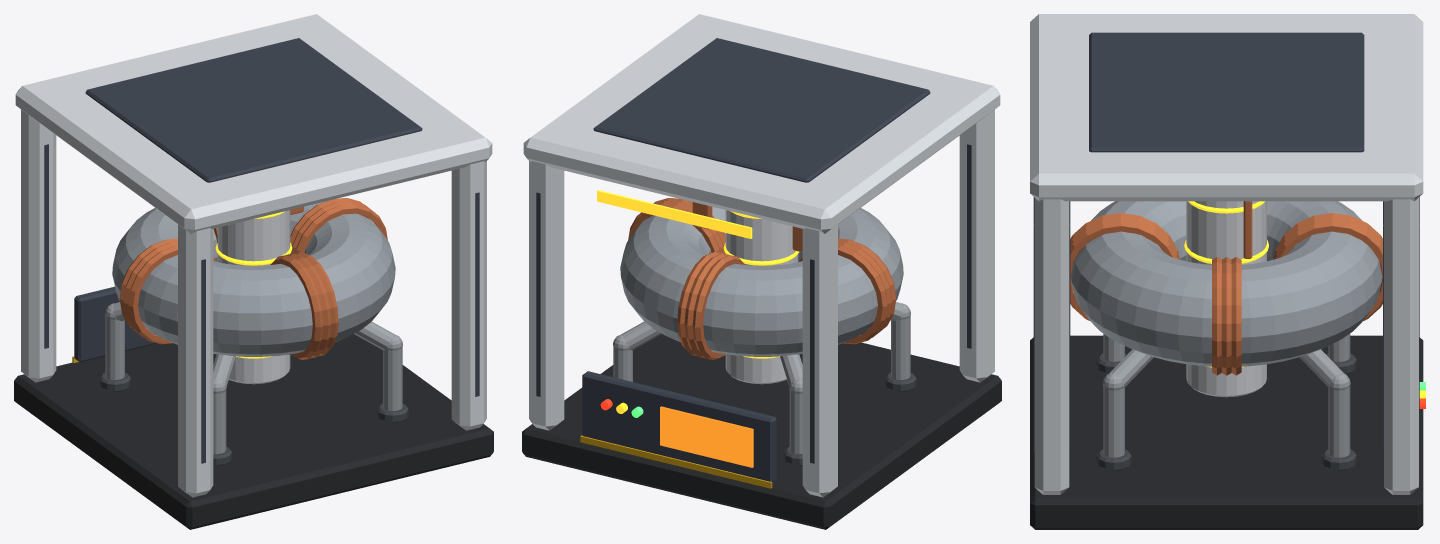
The model's file is compact_fusion_cell.glb.
3 views of the same model, side by side, from view 1: azimuth 30°, elevation 25°; view 2: azimuth 150°, elevation 25°; view 3: azimuth 270°, elevation 25° (orthographic). The views are drawn at different scales.
Visible parts, largest first — view 1: compact_fusion_cell; view 2: compact_fusion_cell; view 3: compact_fusion_cell.
Part boxes in pixels (x1,y1,x2,y2): compact_fusion_cell: (14,14,493,529); compact_fusion_cell: (522,14,1001,529); compact_fusion_cell: (1030,14,1425,529).
Bounding box in the file's own units: 0.9 × 0.9 × 0.9.
